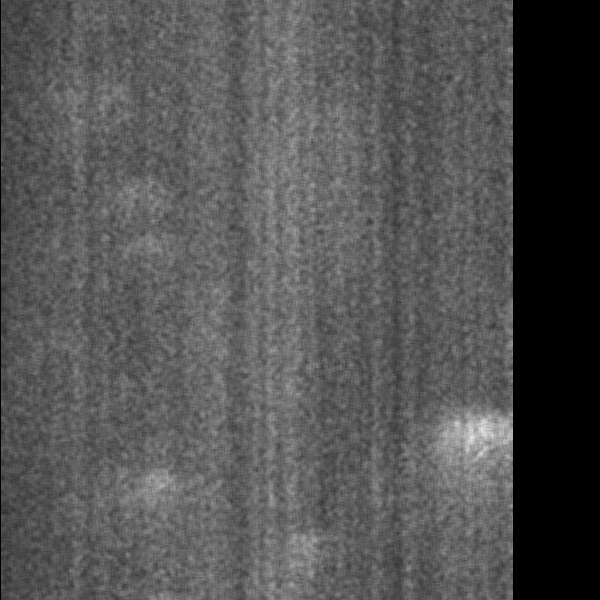spark: (440, 408, 506, 533), (118, 470, 197, 506), (220, 191, 326, 215), (294, 530, 340, 563), (119, 231, 157, 255), (117, 177, 145, 202), (470, 466, 487, 486)
